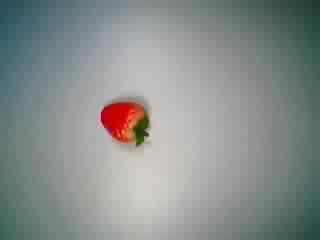strawberry: (94, 91, 160, 157)
